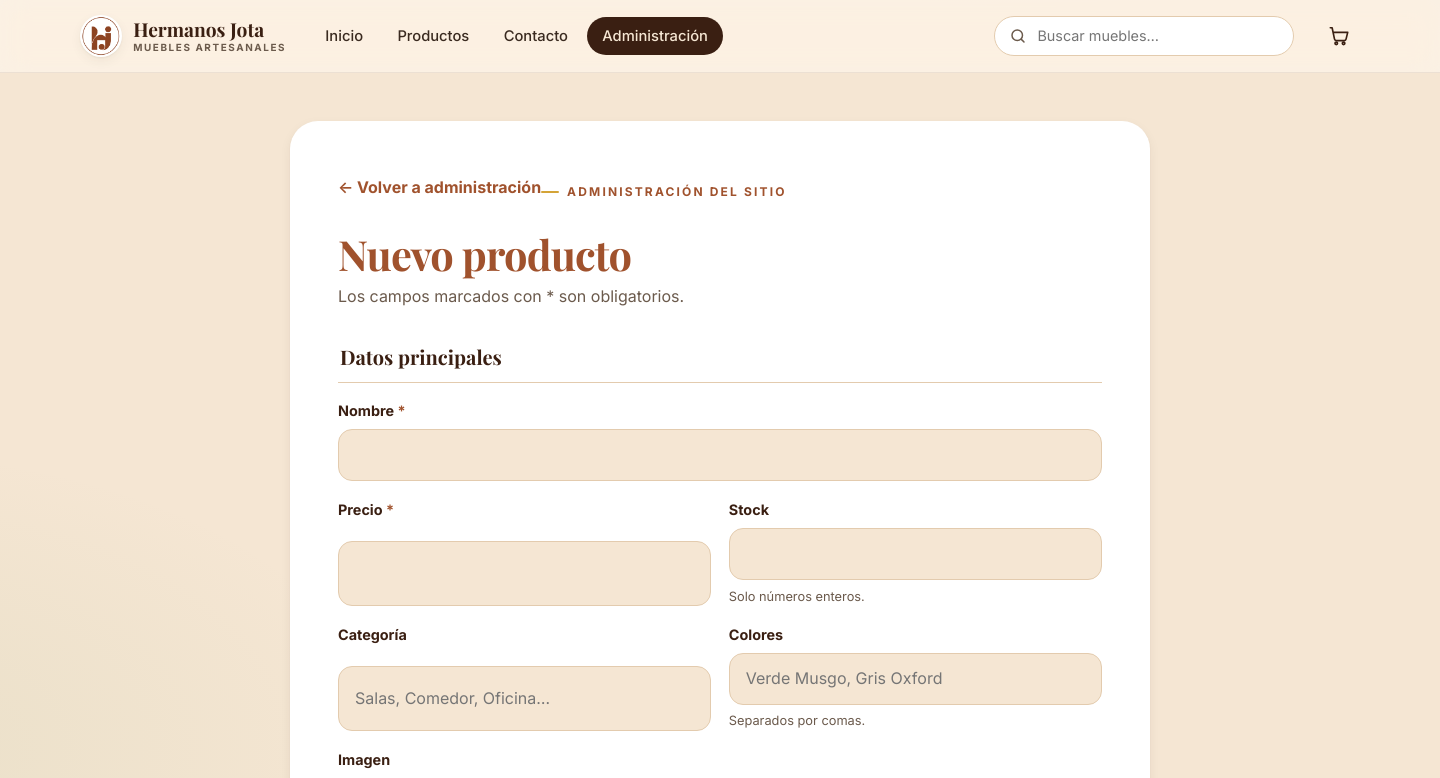
Test: el stock del formulario solo acepta dígitos
This screenshot has width=1440, height=778.
Step 1. Type "12abc-3.5e" into the field labelled "Stock" → [915, 554], box [729,528,1102,580]
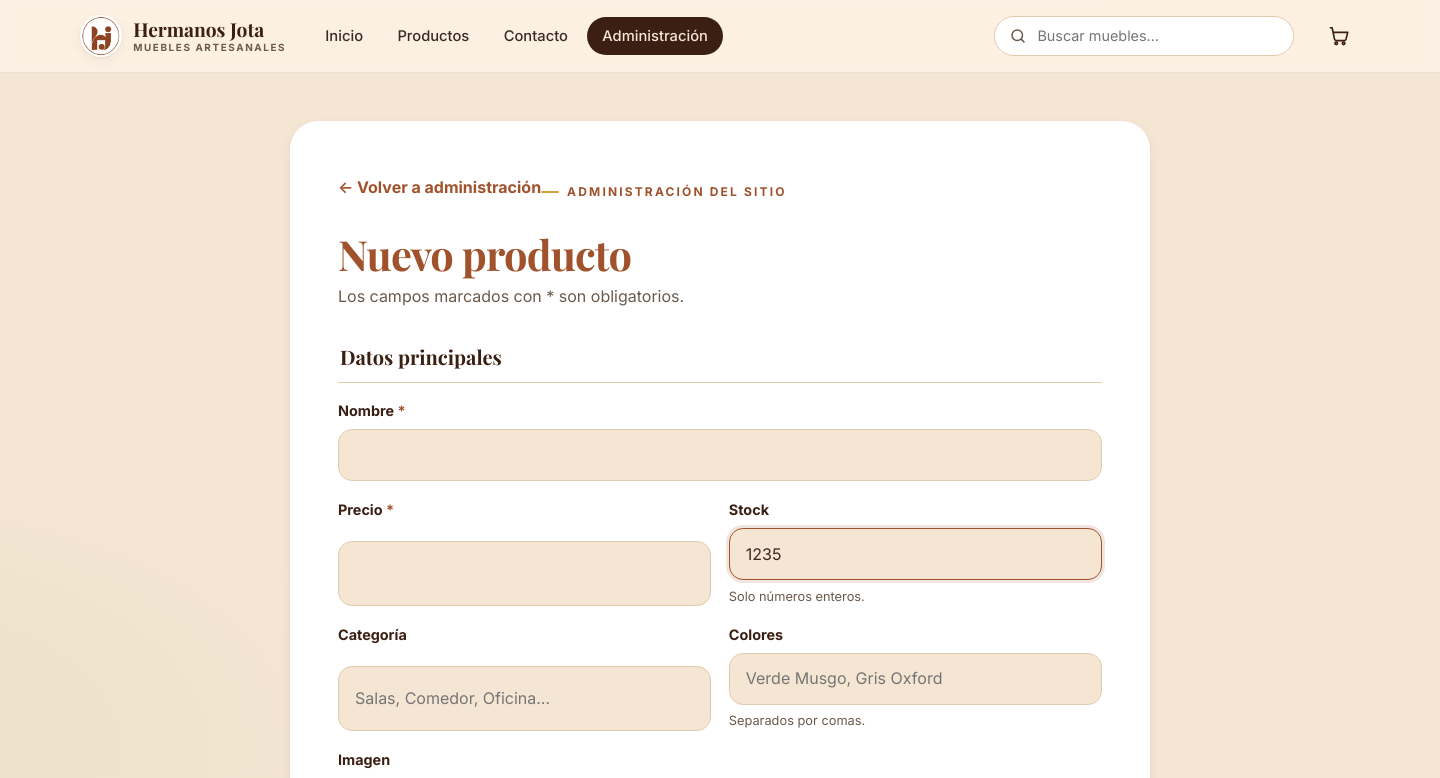
Result: the field labelled "Stock" holds "1235" at [729,528,1102,580]
